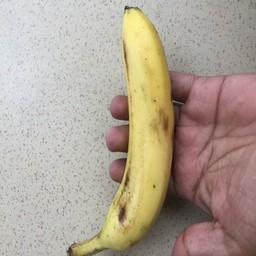Banana Ripe: (90, 0, 186, 256)
